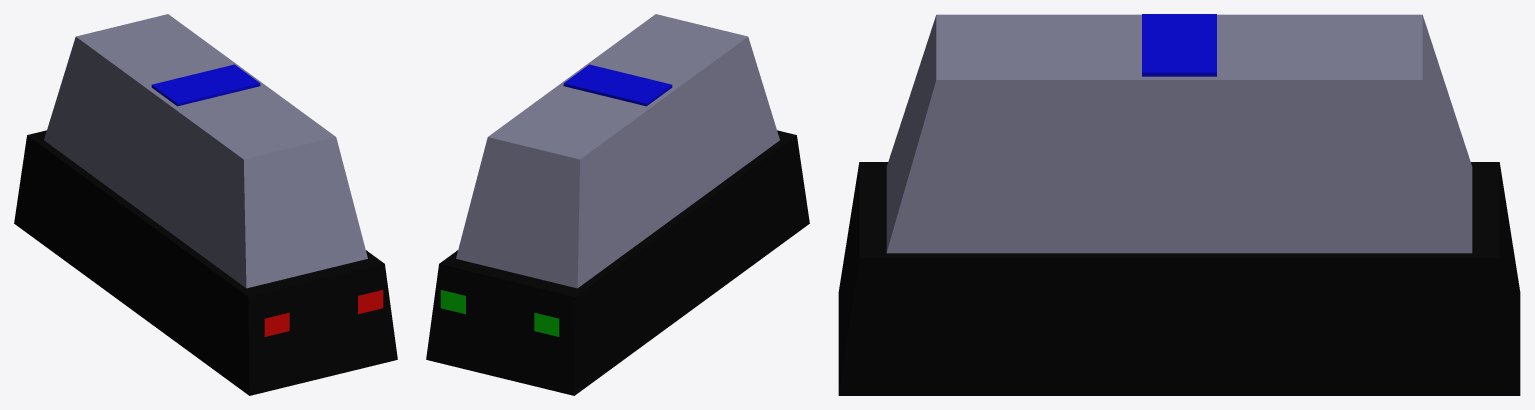
The model's file is veh_ambulance_lod1.glb.
3 views of the same model, side by side, from view 1: azimuth 30°, elevation 25°; view 2: azimuth 150°, elevation 25°; view 3: azimuth 270°, elevation 25° (orthographic). The views are drawn at different scales.
Parts seen in each view (by area): view 1: veh_ambulance_lod1; view 2: veh_ambulance_lod1; view 3: veh_ambulance_lod1.
Part boxes in pixels (box(x1,y1,x2,y2)): veh_ambulance_lod1: box(14, 14, 397, 395); veh_ambulance_lod1: box(426, 14, 809, 395); veh_ambulance_lod1: box(838, 14, 1520, 395).
Bounding box in the file's own units: 2 × 2.67 × 5.51.
